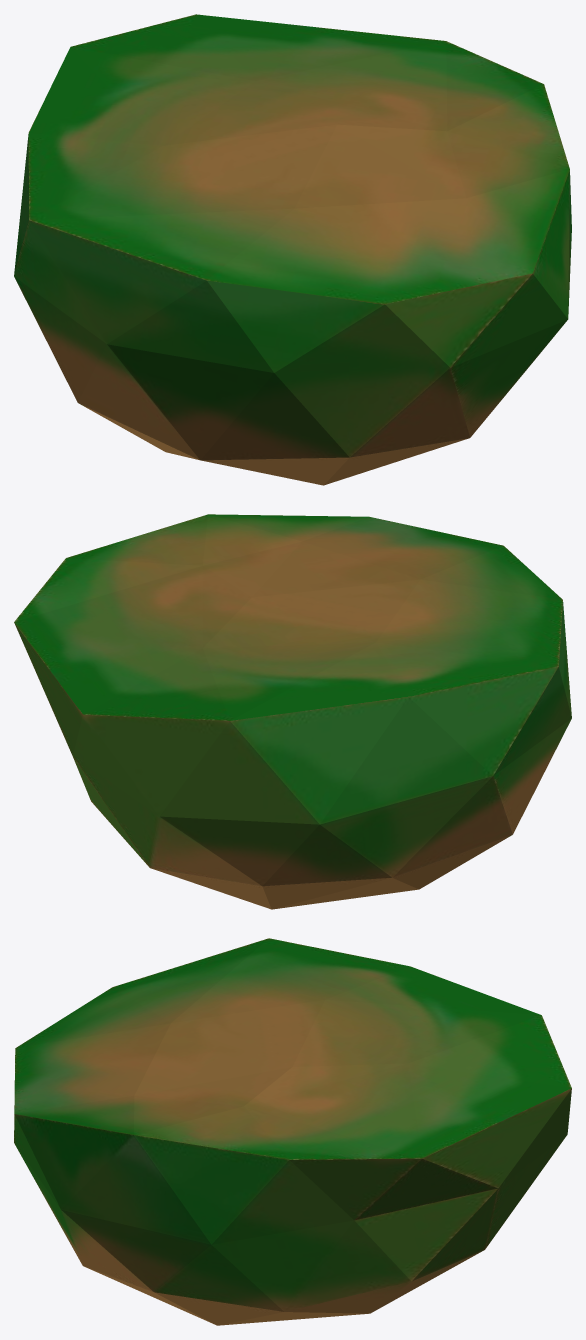
The model's file is island.gltf.
The picture shows the model from 3 angles, top to bottom: view 1: azimuth 30°, elevation 25°; view 2: azimuth 150°, elevation 25°; view 3: azimuth 270°, elevation 25°; orthographic projection. The views are drawn at different scales.
Visible parts, largest first — view 1: Icosphere; view 2: Icosphere; view 3: Icosphere.
Boxes of the visible parts, x1,y1,x2,y2 form: Icosphere: [14, 14, 571, 485]; Icosphere: [14, 514, 571, 909]; Icosphere: [14, 938, 571, 1325].
Bounding box in the file's own units: 2.25 × 1.17 × 2.4.
Materials: 1 (1 with a texture image).
